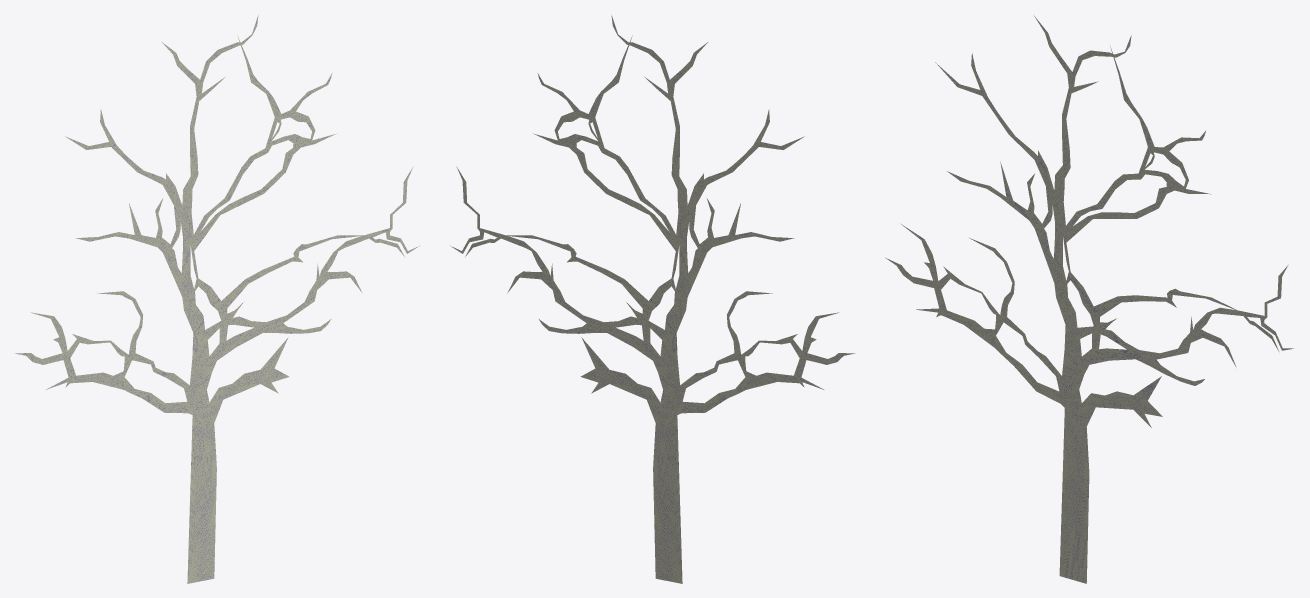
The model's file is winter-tree.dae.
3 renders of one model, left to right at view 1: azimuth 30°, elevation 25°; view 2: azimuth 150°, elevation 25°; view 3: azimuth 330°, elevation 25°, orthographic.
Visible parts, largest first — view 1: SketchUp; view 2: SketchUp; view 3: SketchUp.
Part boxes in pixels (<box>): SketchUp: <box>14,15,418,583</box>; SketchUp: <box>451,15,855,583</box>; SketchUp: <box>885,16,1293,583</box>.
Size of the model in its own units: 271 by 1.01e-13 by 353.
